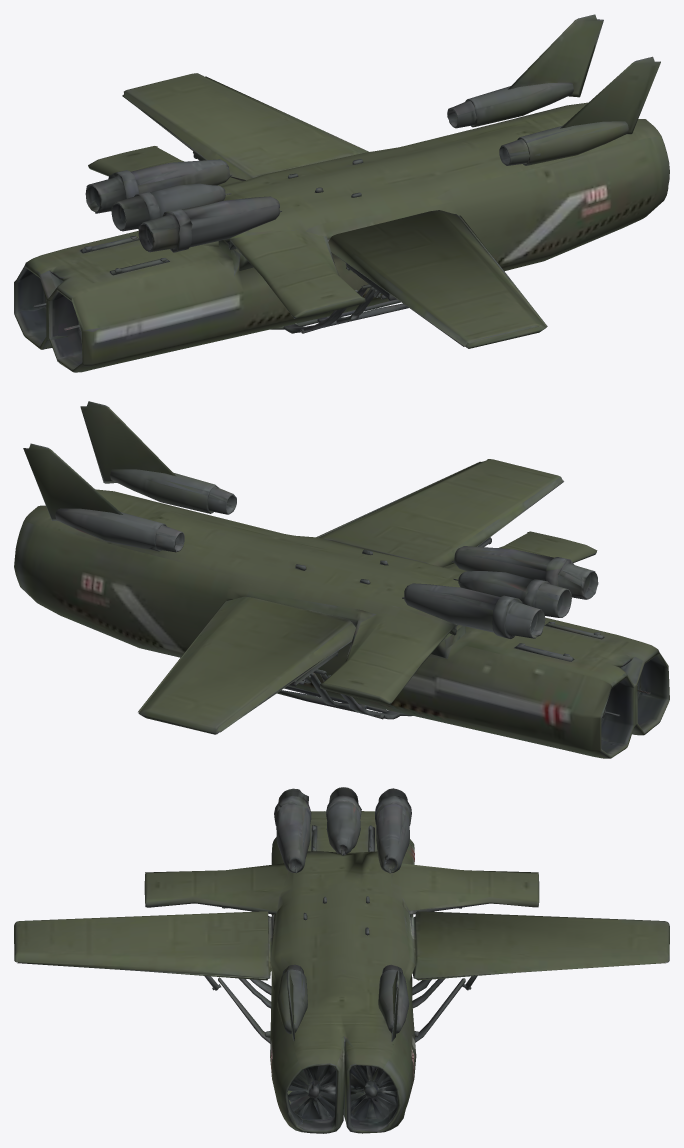
Rendered from v_dropship.glb.
3 views of the same model, one above another, from view 1: azimuth 30°, elevation 25°; view 2: azimuth 150°, elevation 25°; view 3: azimuth 270°, elevation 25° (orthographic). The views are drawn at different scales.
Bounding box in the file's own units: 0.9473 × 0.3101 × 0.9585.
1 material, 1 textured.
